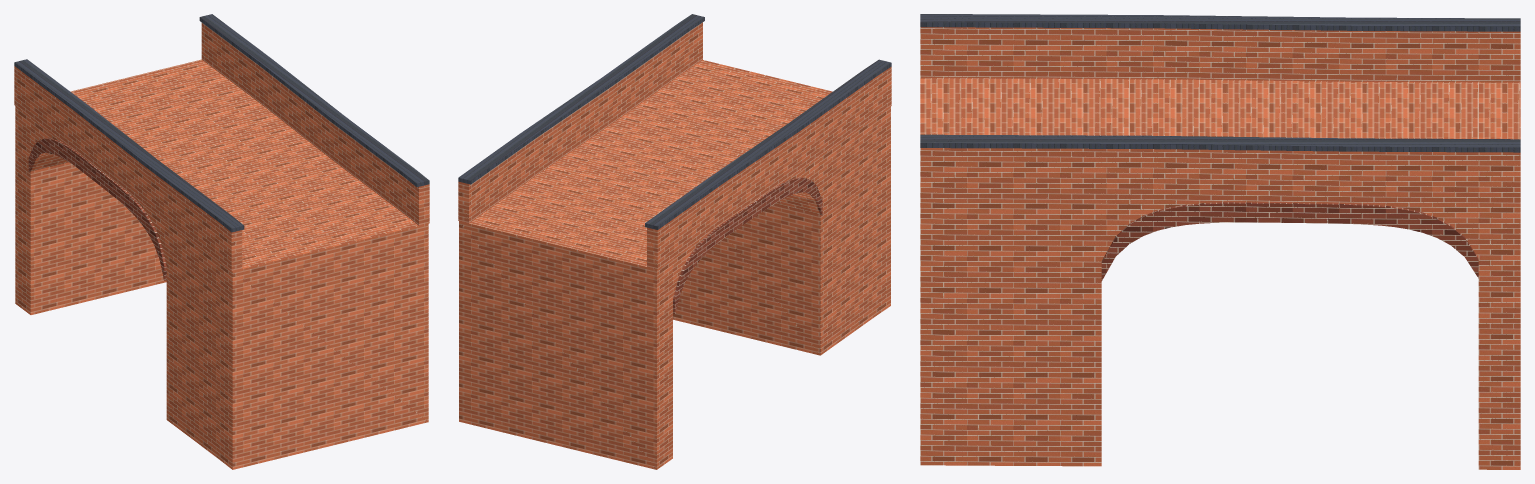
File: bridge-3.glb
3 renders of one model, left to right at view 1: azimuth 30°, elevation 25°; view 2: azimuth 150°, elevation 25°; view 3: azimuth 270°, elevation 25°, orthographic. The views are drawn at different scales.
Visible parts, largest first — view 1: Masonry, Parapet.001, ArchRing; view 2: Masonry, Parapet.001, ArchRing; view 3: Masonry, Parapet.001, ArchRing.
Part boxes in pixels (box(x1,y1,x2,y2)): Masonry: box(14, 23, 429, 469); Parapet.001: box(14, 14, 429, 232); ArchRing: box(28, 138, 166, 280); Masonry: box(458, 22, 891, 469); Parapet.001: box(458, 14, 891, 229); ArchRing: box(673, 177, 822, 313); Masonry: box(920, 27, 1520, 469); Parapet.001: box(920, 14, 1520, 152); ArchRing: box(1101, 202, 1478, 280).
Size of the model in its own units: 6.83 by 7.66 by 12.9.
3 materials, 3 textured.
